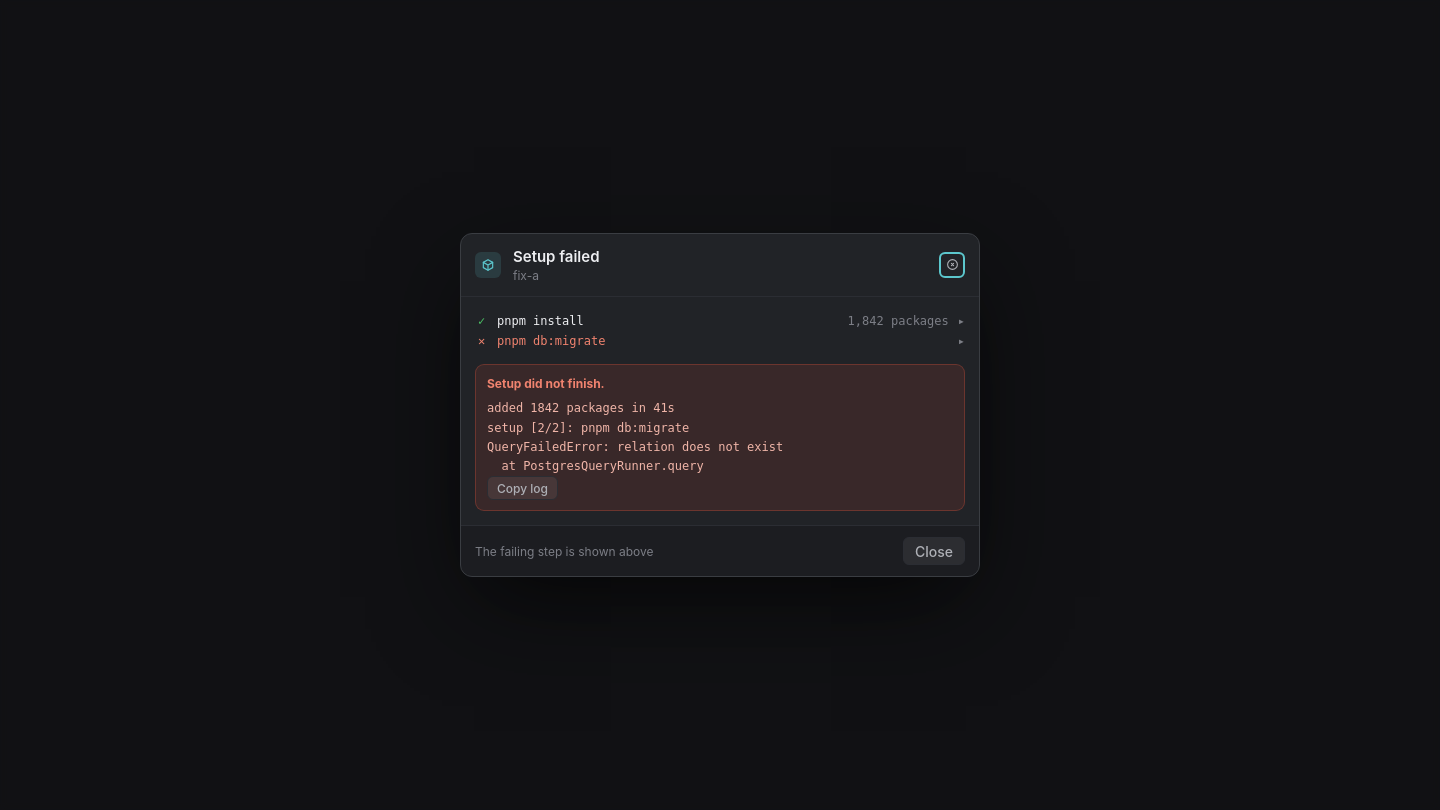
Test: the setup runner › expands a step to its own output, not the whole run
Click the button "✓ pnpm install 1,842 packages ▸".
click(540, 321)  # box top-left (475, 314), bottom-right (965, 328)
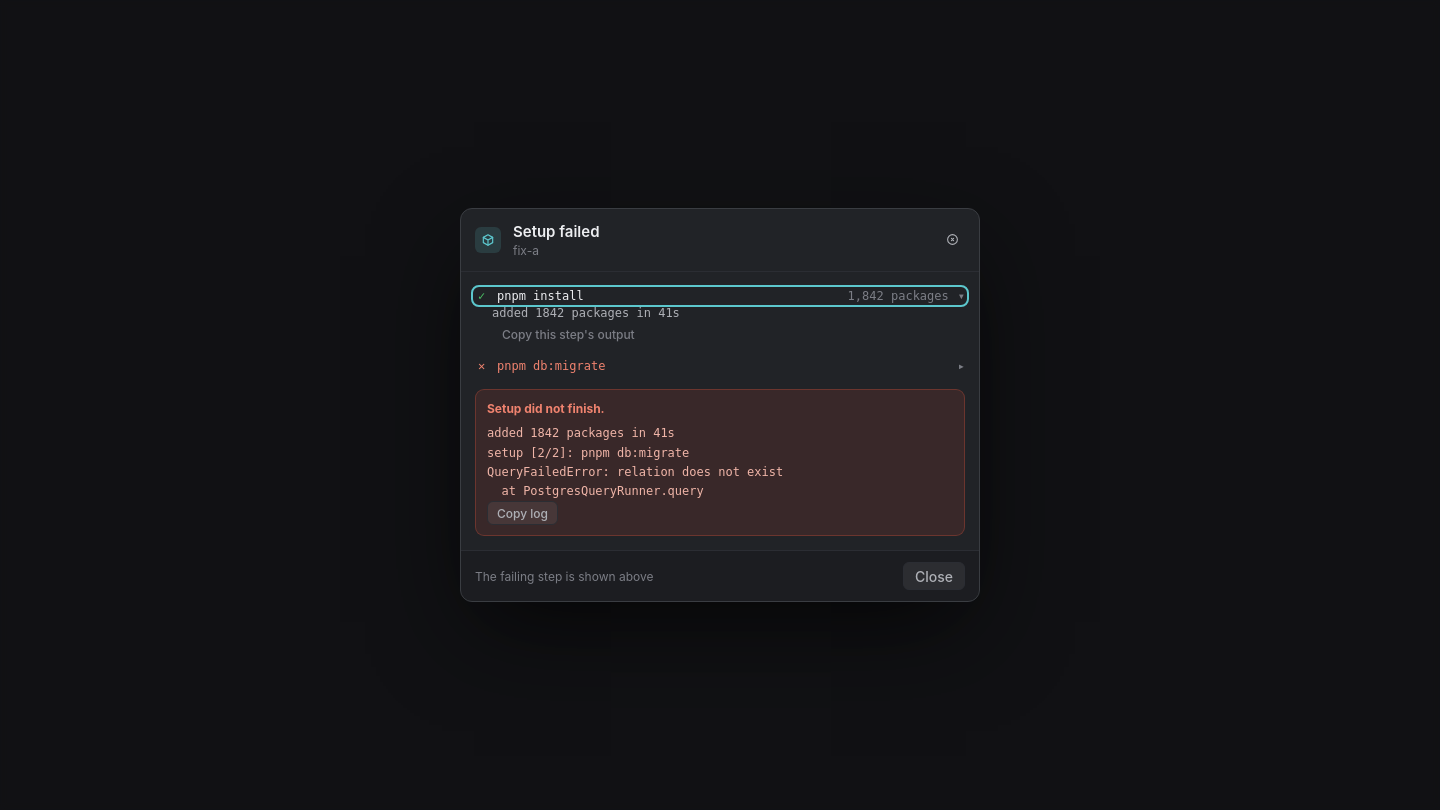
Result: the text "added 1842 packages in 41s" is shown at top-left (492, 306), bottom-right (680, 320)
